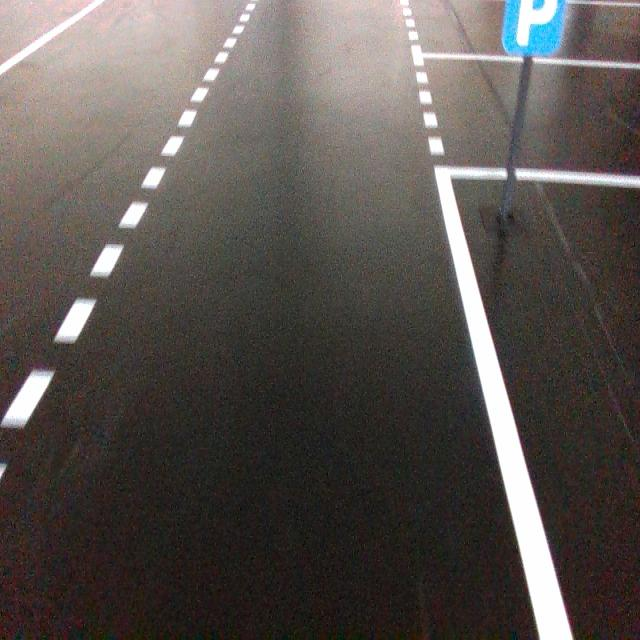parking-sign: (501, 0, 565, 57)
